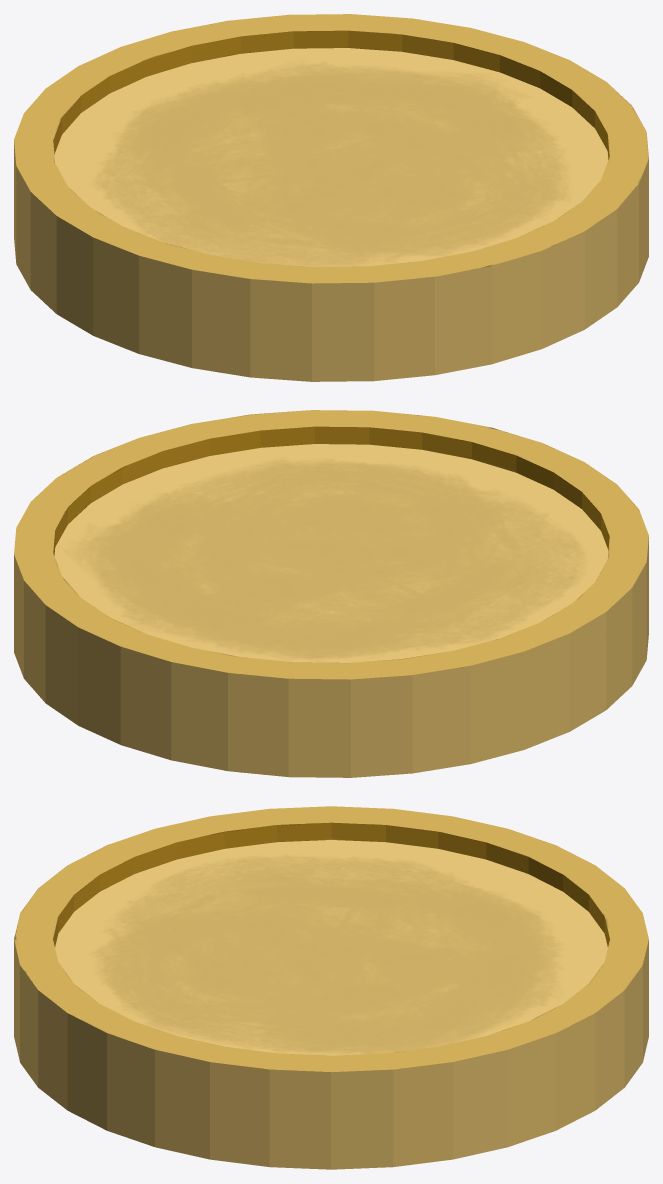
File: coin.fbx
The picture shows the model from 3 angles, top to bottom: view 1: azimuth 30°, elevation 25°; view 2: azimuth 150°, elevation 25°; view 3: azimuth 270°, elevation 25°; orthographic projection.
Visible parts, largest first — view 1: Cylinder; view 2: Cylinder; view 3: Cylinder.
Part boxes in pixels (x1,y1,x2,y2): Cylinder: (14,14,648,381); Cylinder: (14,410,648,777); Cylinder: (14,806,648,1169).
Size of the model in its own units: 99.04 by 16.94 by 99.95.
1 material, 1 textured.
